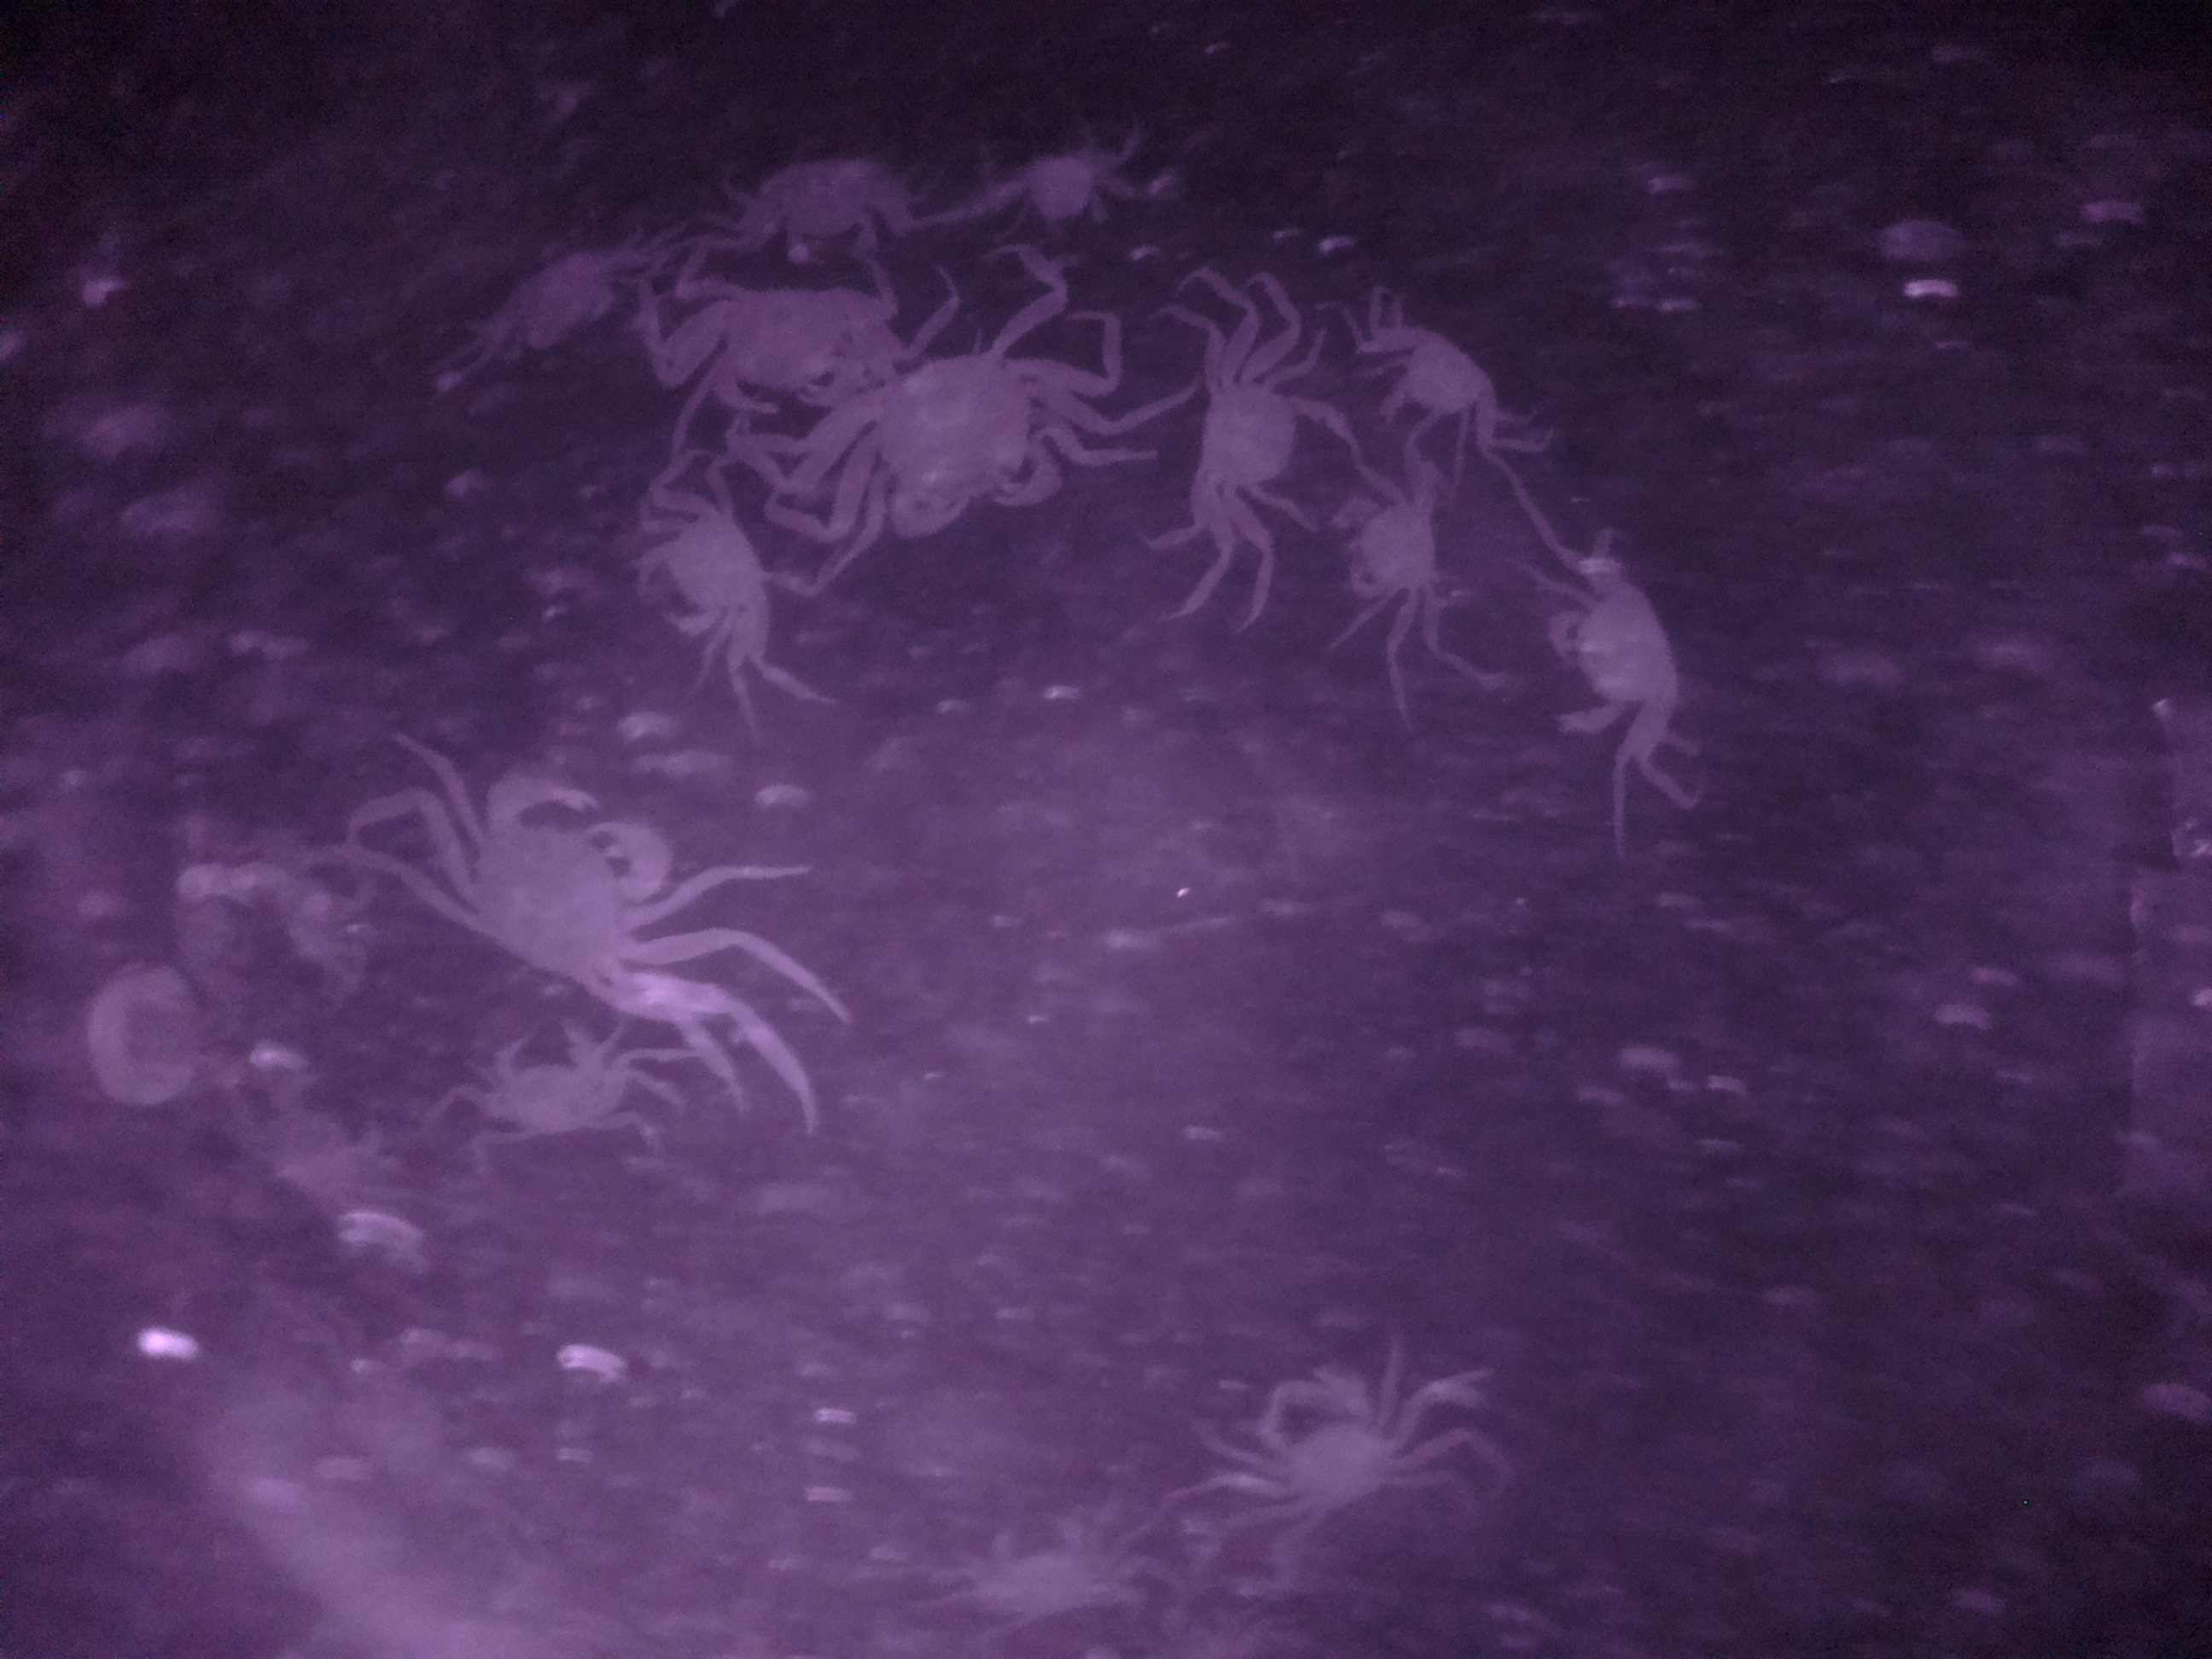Crab: (435, 746, 688, 1019), (827, 312, 1082, 554), (1233, 1345, 1435, 1546), (1526, 549, 1710, 760), (625, 471, 787, 673), (1320, 457, 1475, 643), (1181, 336, 1317, 533)
